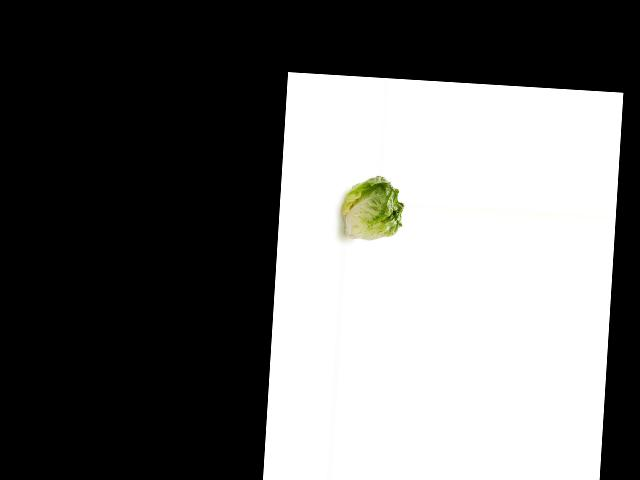lettuce: (341, 170, 408, 246)
